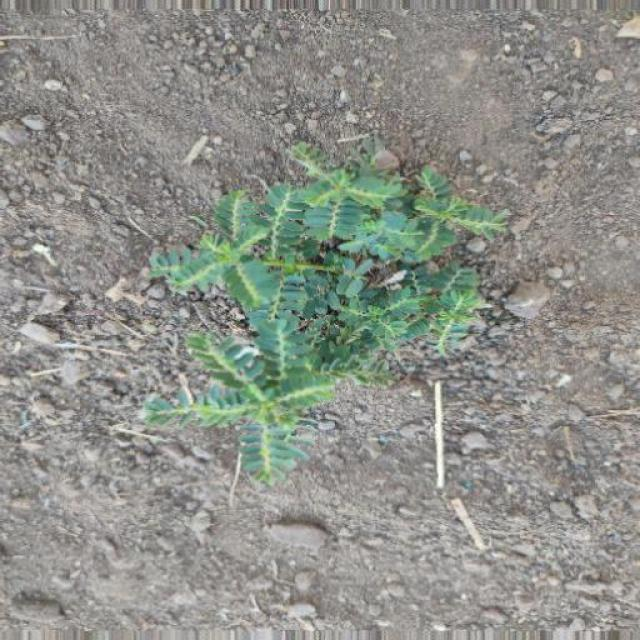weed: (137, 156, 508, 475)
